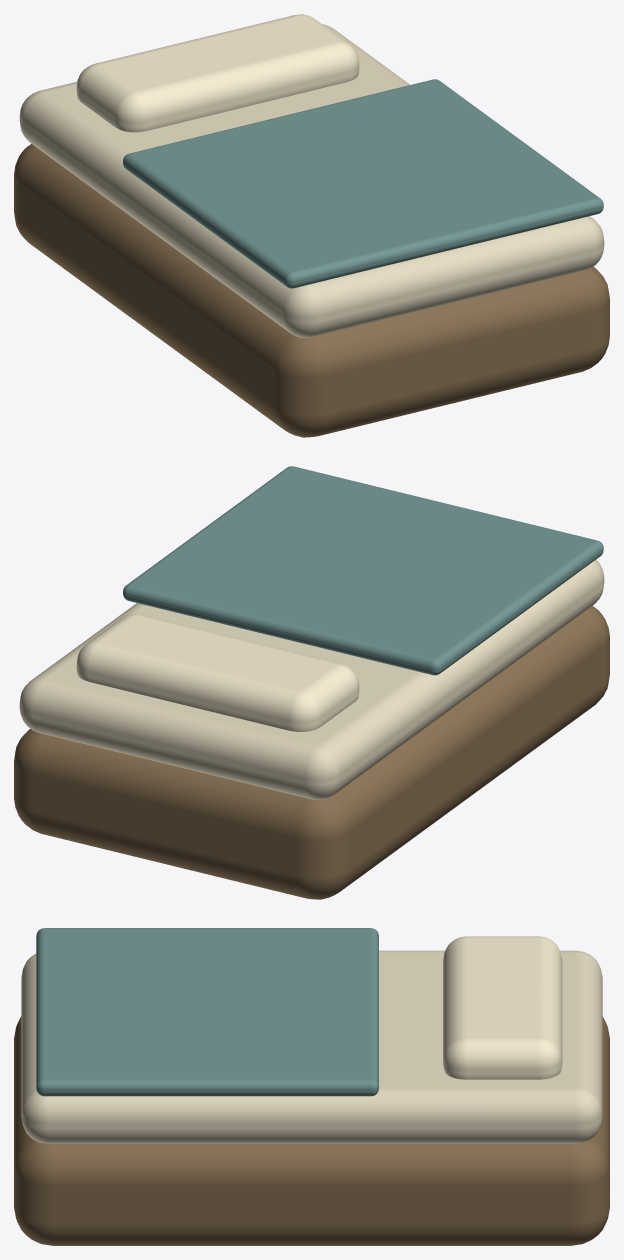
File: bed.glb
The picture shows the model from 3 angles, top to bottom: view 1: azimuth 30°, elevation 25°; view 2: azimuth 150°, elevation 25°; view 3: azimuth 270°, elevation 25°; orthographic projection.
Size of the model in its own units: 1.3 by 0.7 by 2.
